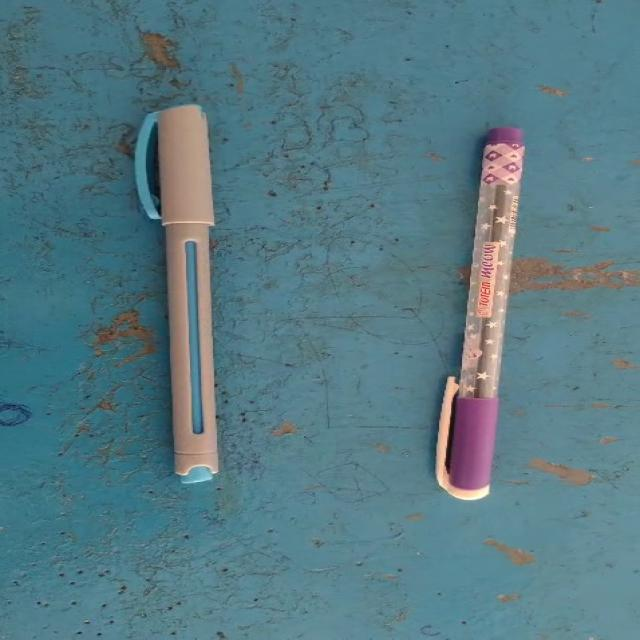pen: (103, 73, 283, 510), (415, 100, 562, 522)
